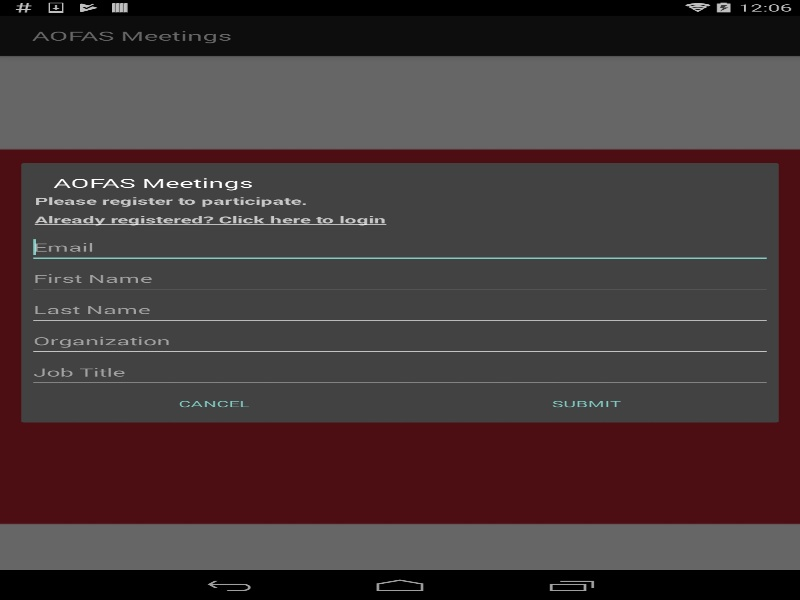Button: (28, 388, 400, 419), (400, 388, 772, 419)
Input: (28, 231, 772, 263), (28, 356, 772, 388), (28, 263, 772, 294), (28, 294, 772, 325), (28, 325, 772, 356)
